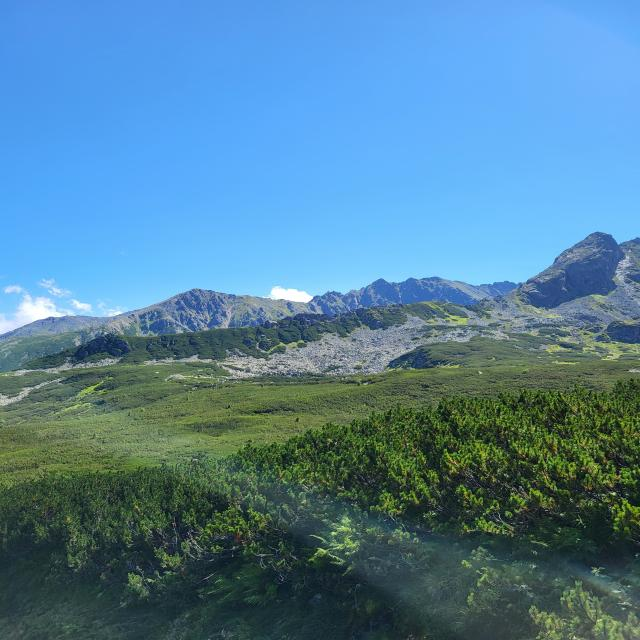Koscielec: (552, 180, 640, 289)
Skrajny i Posredni Granat: (286, 242, 478, 318)
